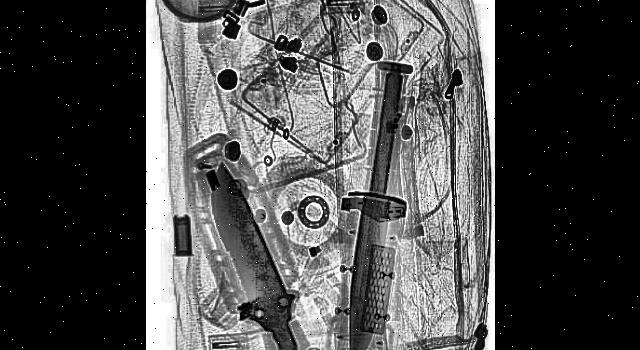Knife: (200, 148, 319, 350), (339, 57, 404, 350)
